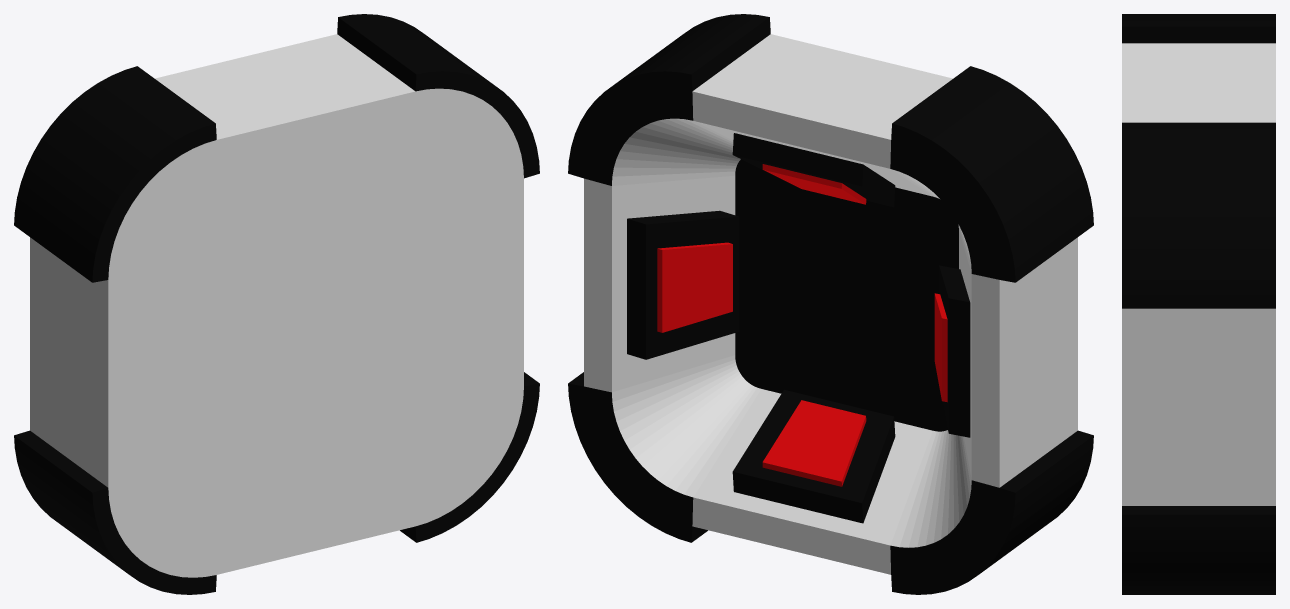
File: bomb_spawner.fbx
3 views of the same model, side by side, from view 1: azimuth 30°, elevation 25°; view 2: azimuth 150°, elevation 25°; view 3: azimuth 270°, elevation 25° (orthographic).
Visible parts, largest first — view 1: Cube; view 2: Cube; view 3: Cube.
Part boxes in pixels (box(x1,y1,x2,y2)): Cube: box(14, 14, 539, 594); Cube: box(568, 14, 1093, 594); Cube: box(1122, 14, 1275, 594).
Bounding box in the file's own units: 249 × 249 × 75.45.
